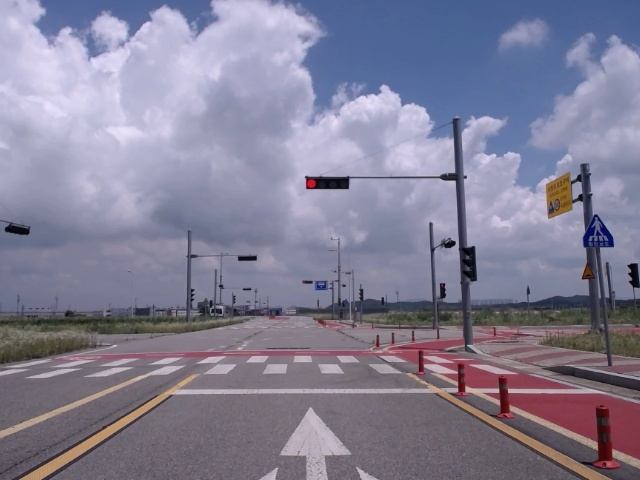red_4: (306, 178, 349, 189)
